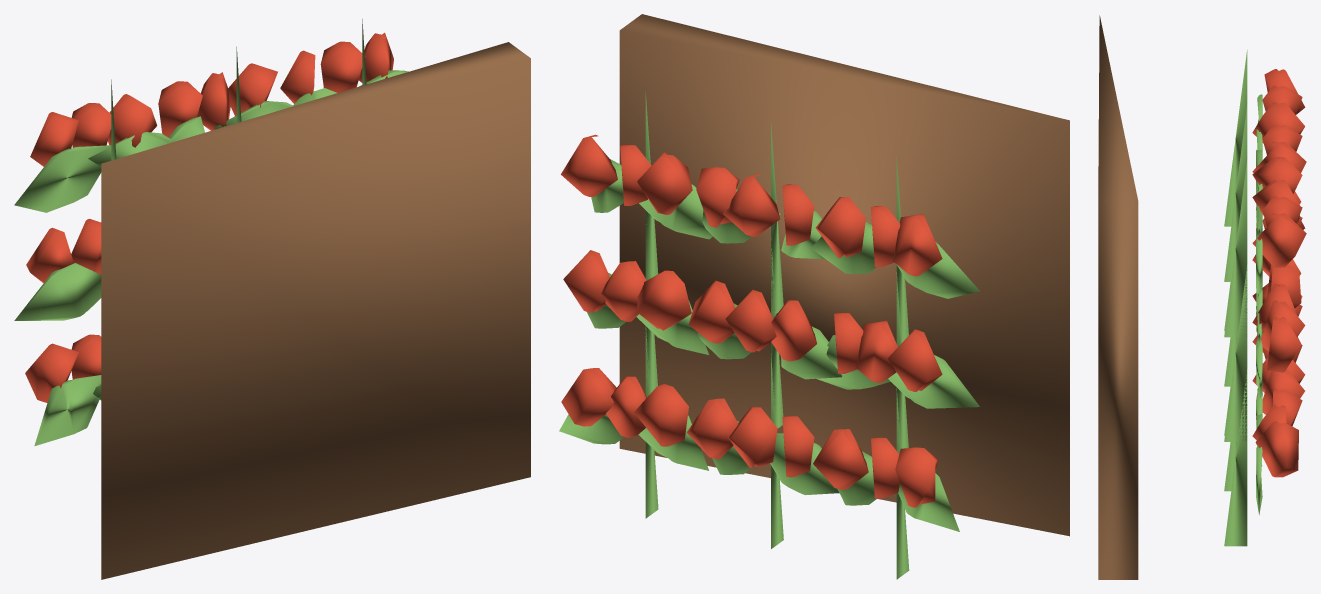
File: tomato_growing.glb
The picture shows the model from 3 angles, left to right: view 1: azimuth 30°, elevation 25°; view 2: azimuth 150°, elevation 25°; view 3: azimuth 270°, elevation 25°; orthographic projection. The views are drawn at different scales.
Visible parts, largest first — view 1: Soil, Leaf.004, Leaf.002, Leaf, Fruit, Fruit.025, Fruit.015, Fruit.008, Fruit.017, Fruit.006, Fruit.003, Fruit.007 (+7 smaller); view 2: Soil, Fruit.021, Fruit.018, Fruit.024, Fruit.002, Fruit.020, Fruit.006, Fruit.026, Fruit.016, Fruit.008, Fruit.003, Fruit.010 (+41 smaller); view 3: Soil, Stem.006, Stem.007, Stem.008, Fruit.020, Fruit.026, Fruit.023, Stem.002, Stem.005, Fruit.017, Fruit.008, Fruit.011 (+17 smaller).
Boxes of the visible parts, x1,y1,x2,y2 form: Soil: (101, 42, 530, 579); Leaf.004: (14, 145, 111, 212); Leaf.002: (14, 263, 101, 320); Leaf: (34, 375, 101, 446); Fruit: (25, 343, 78, 402); Fruit.025: (320, 41, 365, 92); Fruit.015: (158, 81, 202, 137); Fruit.008: (108, 94, 157, 147); Fruit.017: (228, 63, 277, 115); Fruit.006: (30, 112, 78, 166); Fruit.003: (26, 227, 73, 282); Fruit.007: (71, 103, 114, 147); Soil: (619, 14, 1069, 536); Fruit.021: (637, 270, 691, 330); Fruit.018: (634, 384, 688, 446); Fruit.024: (637, 152, 692, 214); Fruit.002: (813, 429, 868, 489); Fruit.020: (561, 368, 616, 426); Fruit.006: (893, 214, 942, 276); Fruit.026: (561, 134, 617, 196); Fruit.016: (723, 174, 779, 236); Fruit.008: (815, 197, 865, 257); Fruit.003: (888, 329, 942, 391); Fruit.010: (728, 407, 777, 467); Soil: (1098, 15, 1138, 579); Stem.006: (1224, 369, 1247, 546); Stem.007: (1224, 265, 1247, 441); Stem.008: (1224, 160, 1247, 337); Fruit.020: (1255, 421, 1298, 477); Fruit.026: (1252, 213, 1306, 267); Fruit.023: (1267, 317, 1301, 372); Stem.002: (1224, 50, 1247, 226); Stem.005: (1224, 105, 1247, 281); Fruit.017: (1252, 157, 1302, 193); Fruit.008: (1252, 102, 1304, 143); Fruit.011: (1262, 369, 1304, 414).
Size of the model in its own units: 1.16 by 1.11 by 0.5419.
